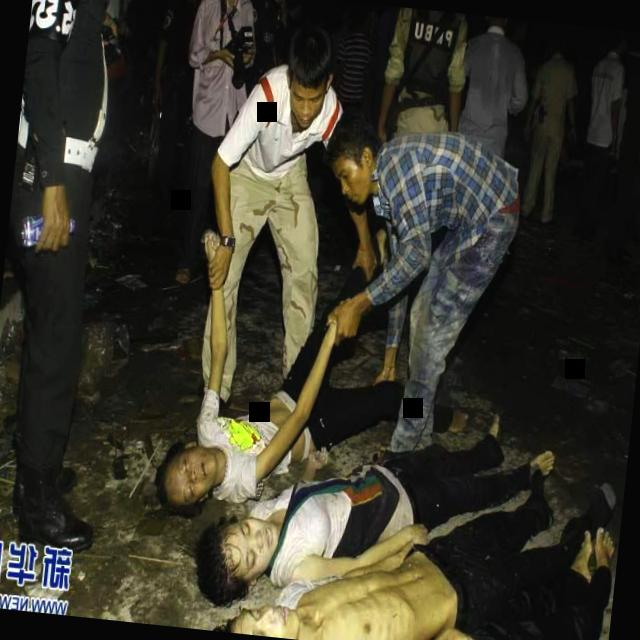Fall-Detected: (225, 471, 590, 640)
